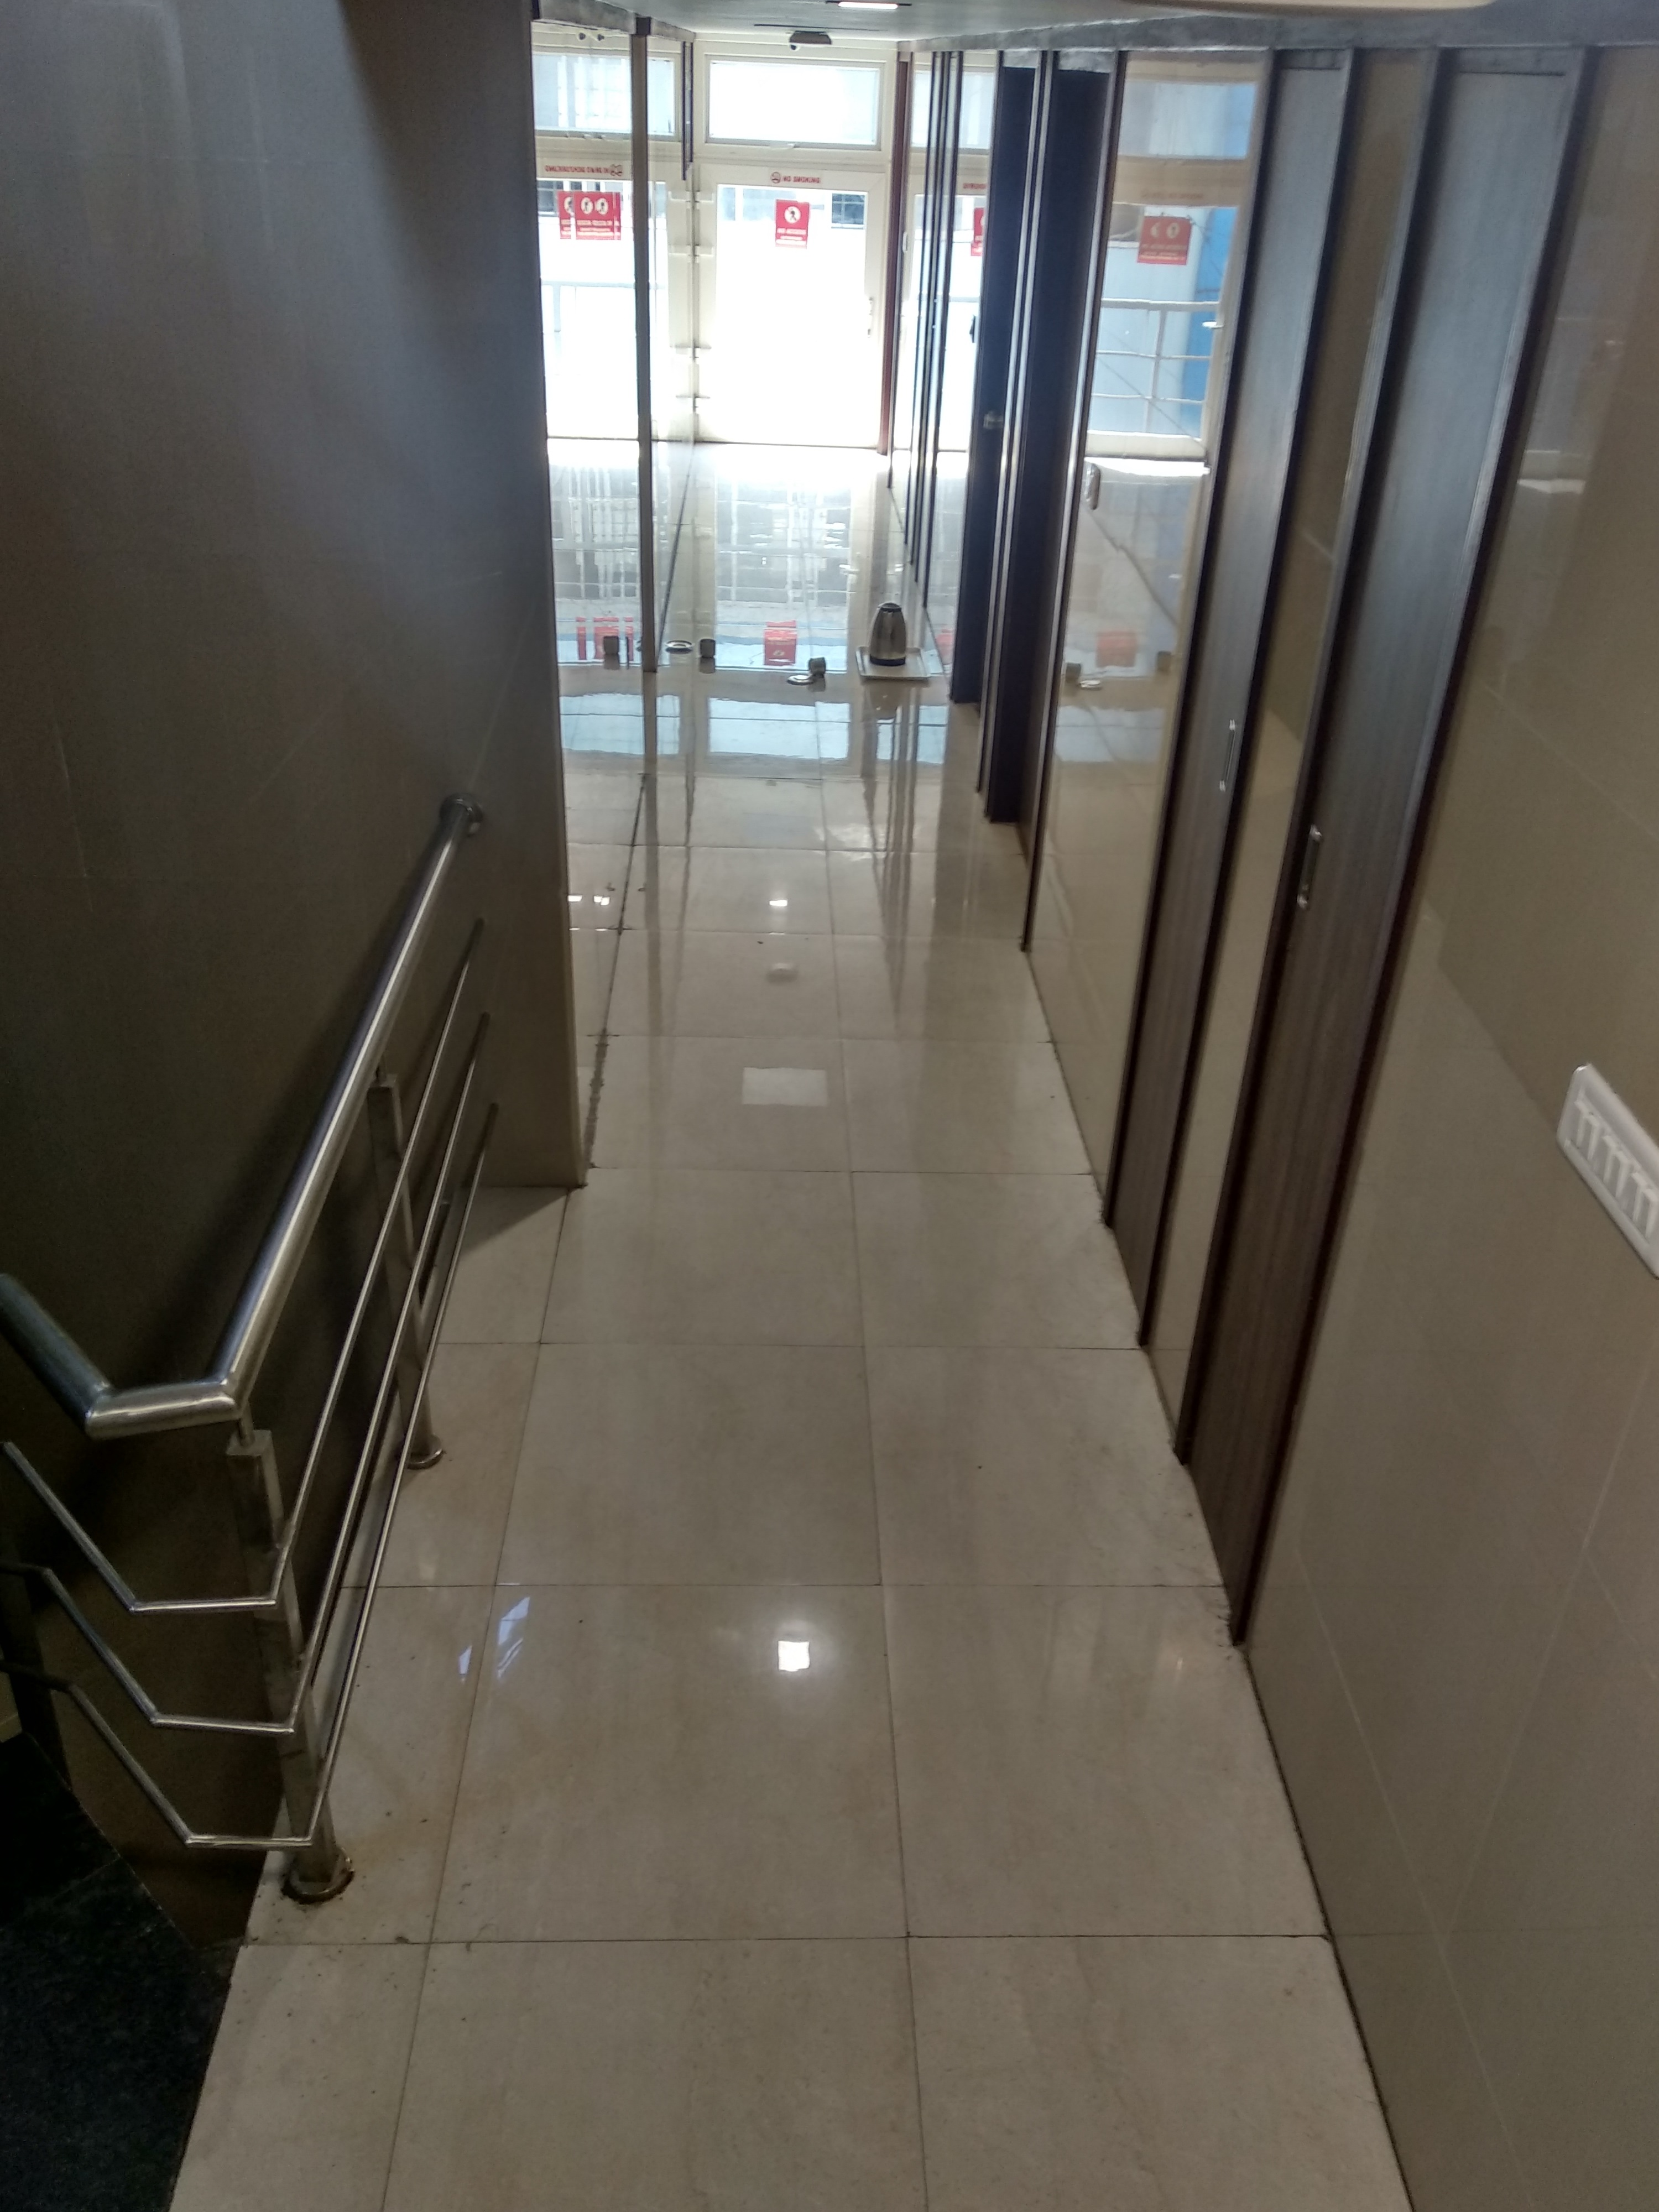CUP: (805, 657, 830, 678), (701, 637, 718, 658)
JUG: (873, 597, 910, 669)
